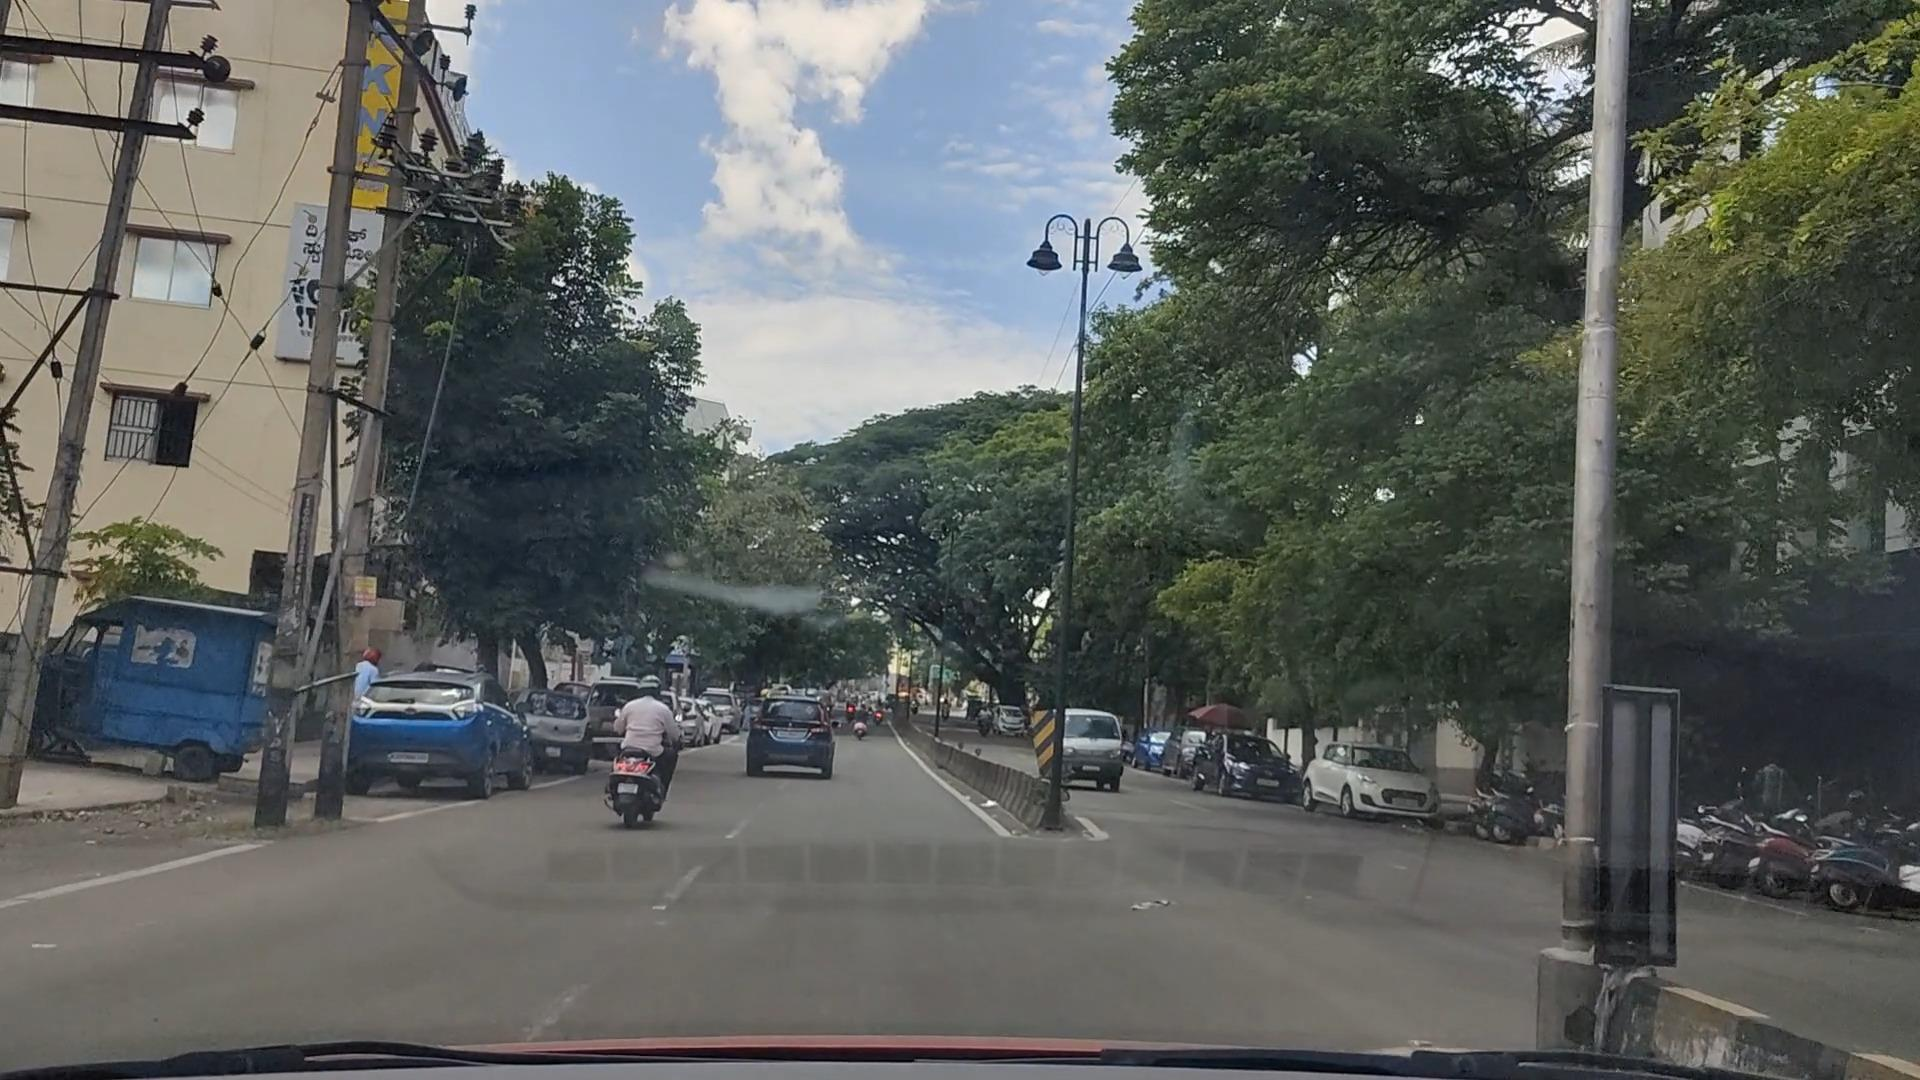LMV: (608, 678, 699, 816), (755, 683, 861, 782)
